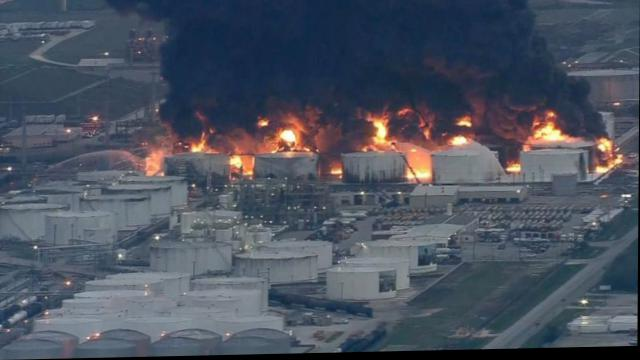fire: (596, 141, 628, 180), (402, 145, 436, 180), (534, 130, 571, 149), (371, 122, 391, 151), (229, 158, 255, 174), (279, 131, 296, 149), (448, 141, 474, 151), (610, 160, 628, 171), (192, 145, 206, 158), (598, 141, 612, 154), (335, 166, 345, 184), (596, 169, 609, 180), (512, 163, 522, 177), (460, 123, 469, 133)
smoke: (167, 0, 528, 105), (564, 0, 639, 78), (311, 104, 375, 154), (166, 103, 295, 127), (564, 82, 600, 138), (534, 36, 559, 109), (205, 128, 278, 152), (486, 101, 527, 143), (391, 105, 429, 141), (113, 0, 167, 23), (300, 106, 312, 150), (434, 106, 467, 118), (435, 125, 453, 137)
